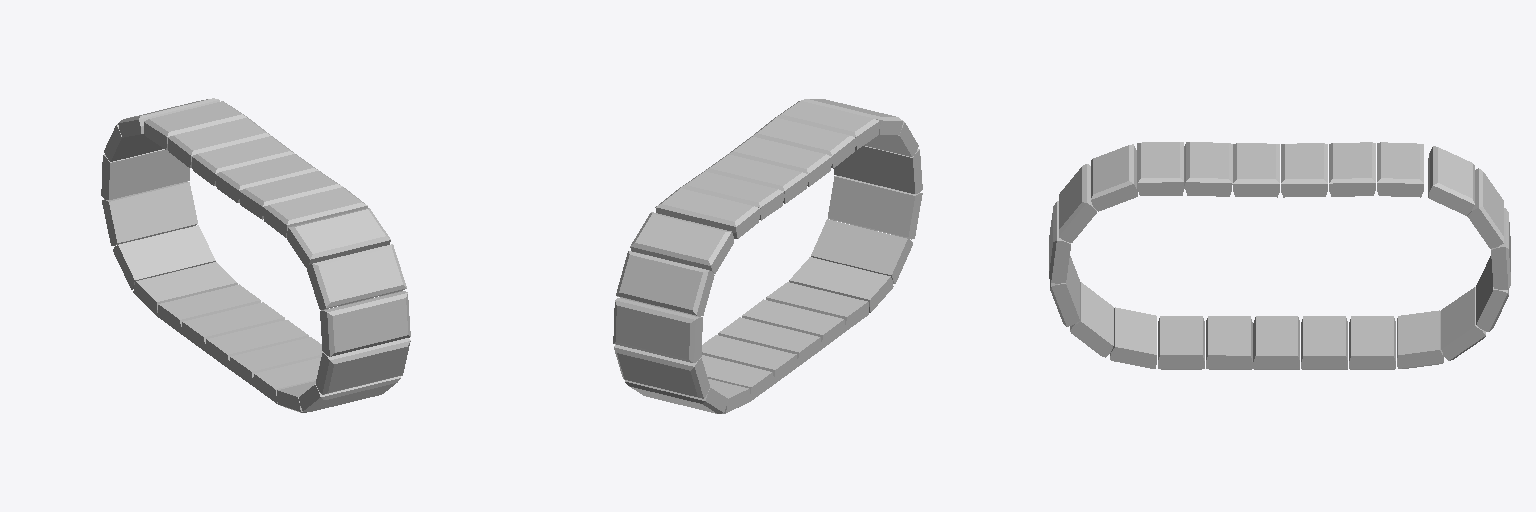
File: TankCaterpillarLeft.obj
3 views of the same model, side by side, from view 1: azimuth 30°, elevation 25°; view 2: azimuth 150°, elevation 25°; view 3: azimuth 270°, elevation 25° (orthographic).
Visible parts, largest first — view 1: TankCaterpillarLeft_Untitled.006; view 2: TankCaterpillarLeft_Untitled.006; view 3: TankCaterpillarLeft_Untitled.006.
Part boxes in pixels (bbox=[...]): TankCaterpillarLeft_Untitled.006: bbox=[101, 98, 410, 412]; TankCaterpillarLeft_Untitled.006: bbox=[613, 99, 922, 413]; TankCaterpillarLeft_Untitled.006: bbox=[1049, 142, 1510, 369].
Bounding box in the file's own units: 0.4231 × 0.9629 × 2.1.